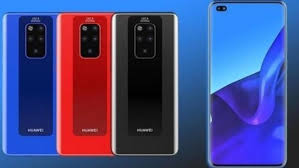huawei: (112, 9, 179, 157), (51, 9, 110, 155), (1, 10, 59, 156)
